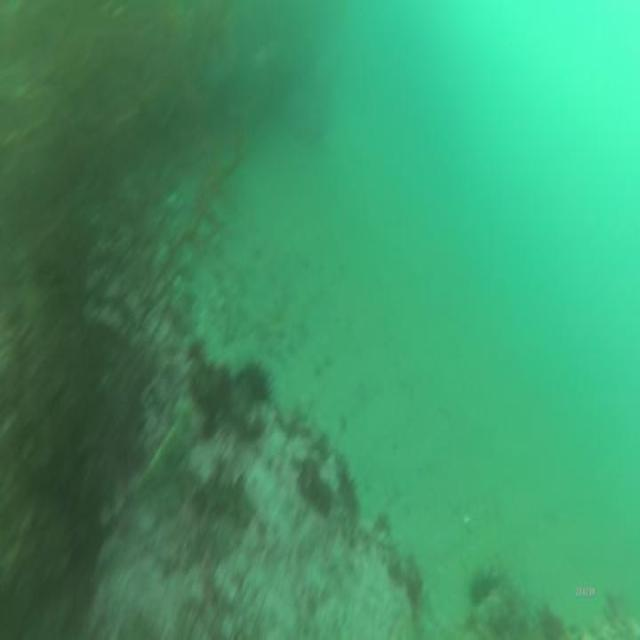holothurian: (135, 405, 197, 504)
waterweeds: (0, 0, 193, 640)
